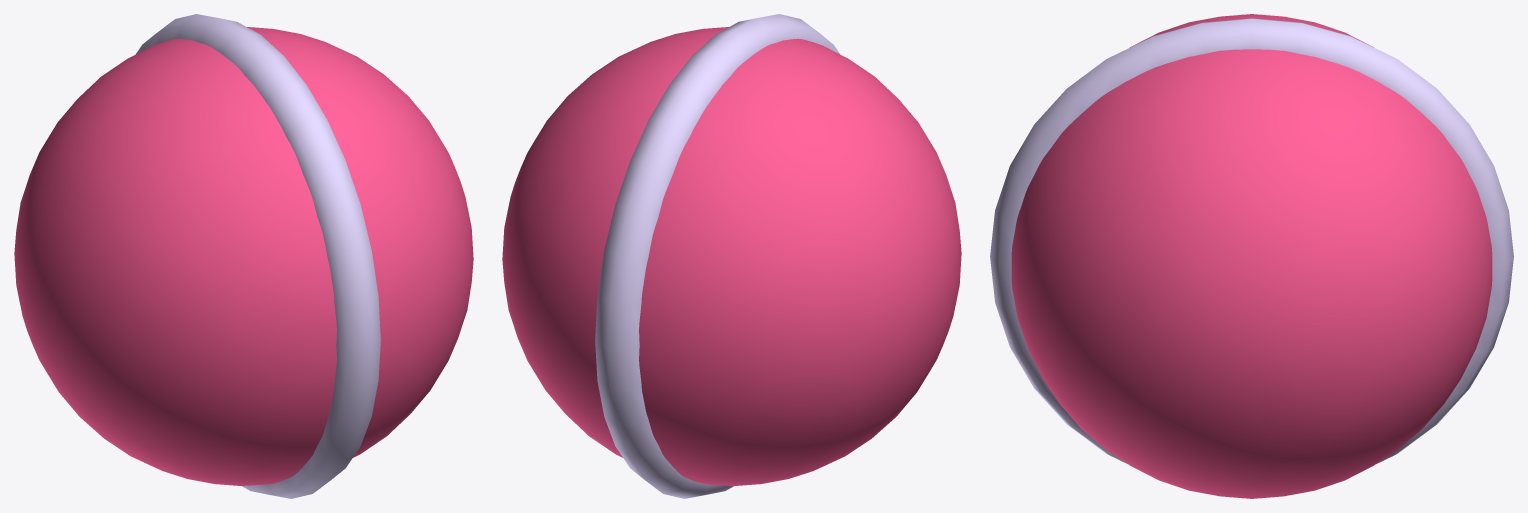
The model's file is ArcadeSkeeBall.obj.
The picture shows the model from 3 angles, left to right: view 1: azimuth 30°, elevation 25°; view 2: azimuth 150°, elevation 25°; view 3: azimuth 270°, elevation 25°; orthographic projection. The views are drawn at different scales.
Parts seen in each view (by area): view 1: Ball, Band; view 2: Ball, Band; view 3: Ball, Band.
Boxes of the visible parts, left/top/right/bottom form: Ball: left=14, top=27, right=473, bottom=485; Band: left=135, top=14, right=380, bottom=498; Ball: left=502, top=27, right=961, bottom=485; Band: left=595, top=14, right=840, bottom=498; Ball: left=1011, top=14, right=1492, bottom=498; Band: left=990, top=18, right=1513, bottom=463.
Size of the model in its own units: 0.72 by 0.7776 by 0.7776.
